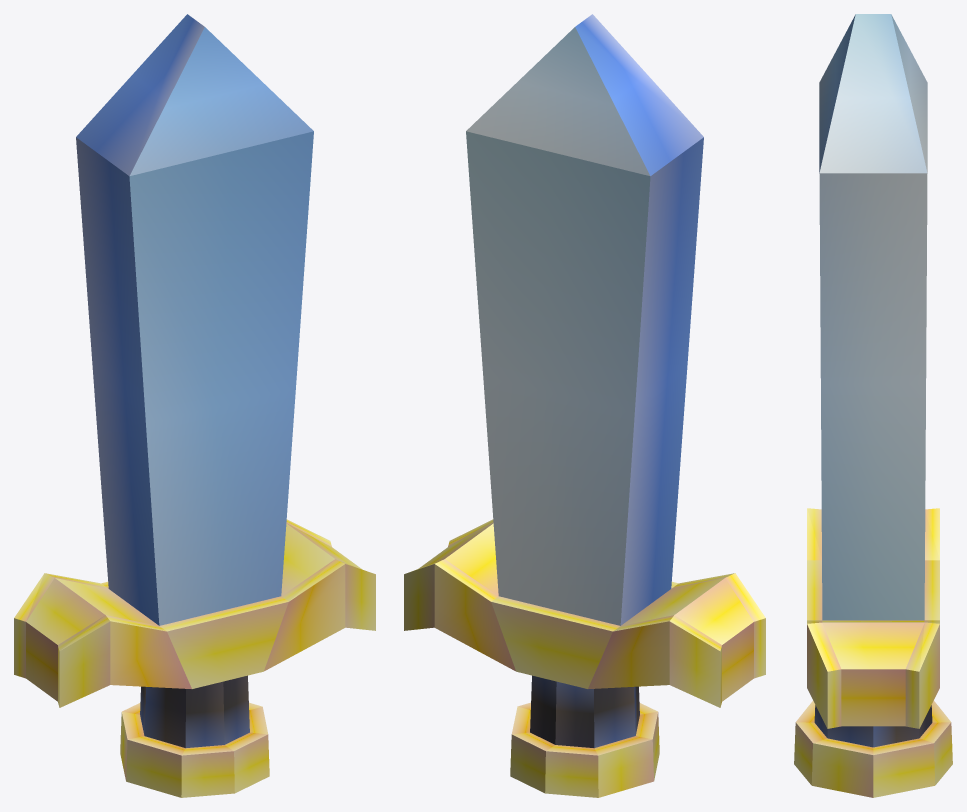
The model's file is sword02.fbx.
The picture shows the model from 3 angles, left to right: view 1: azimuth 30°, elevation 25°; view 2: azimuth 150°, elevation 25°; view 3: azimuth 270°, elevation 25°; orthographic projection.
Parts seen in each view (by area): view 1: sword02; view 2: sword02; view 3: sword02.
Part boxes in pixels (<box>): sword02: <box>14,14,375,797</box>; sword02: <box>404,14,765,797</box>; sword02: <box>794,14,952,797</box>.
Bounding box in the file's own units: 57.91 × 130 × 24.97.
